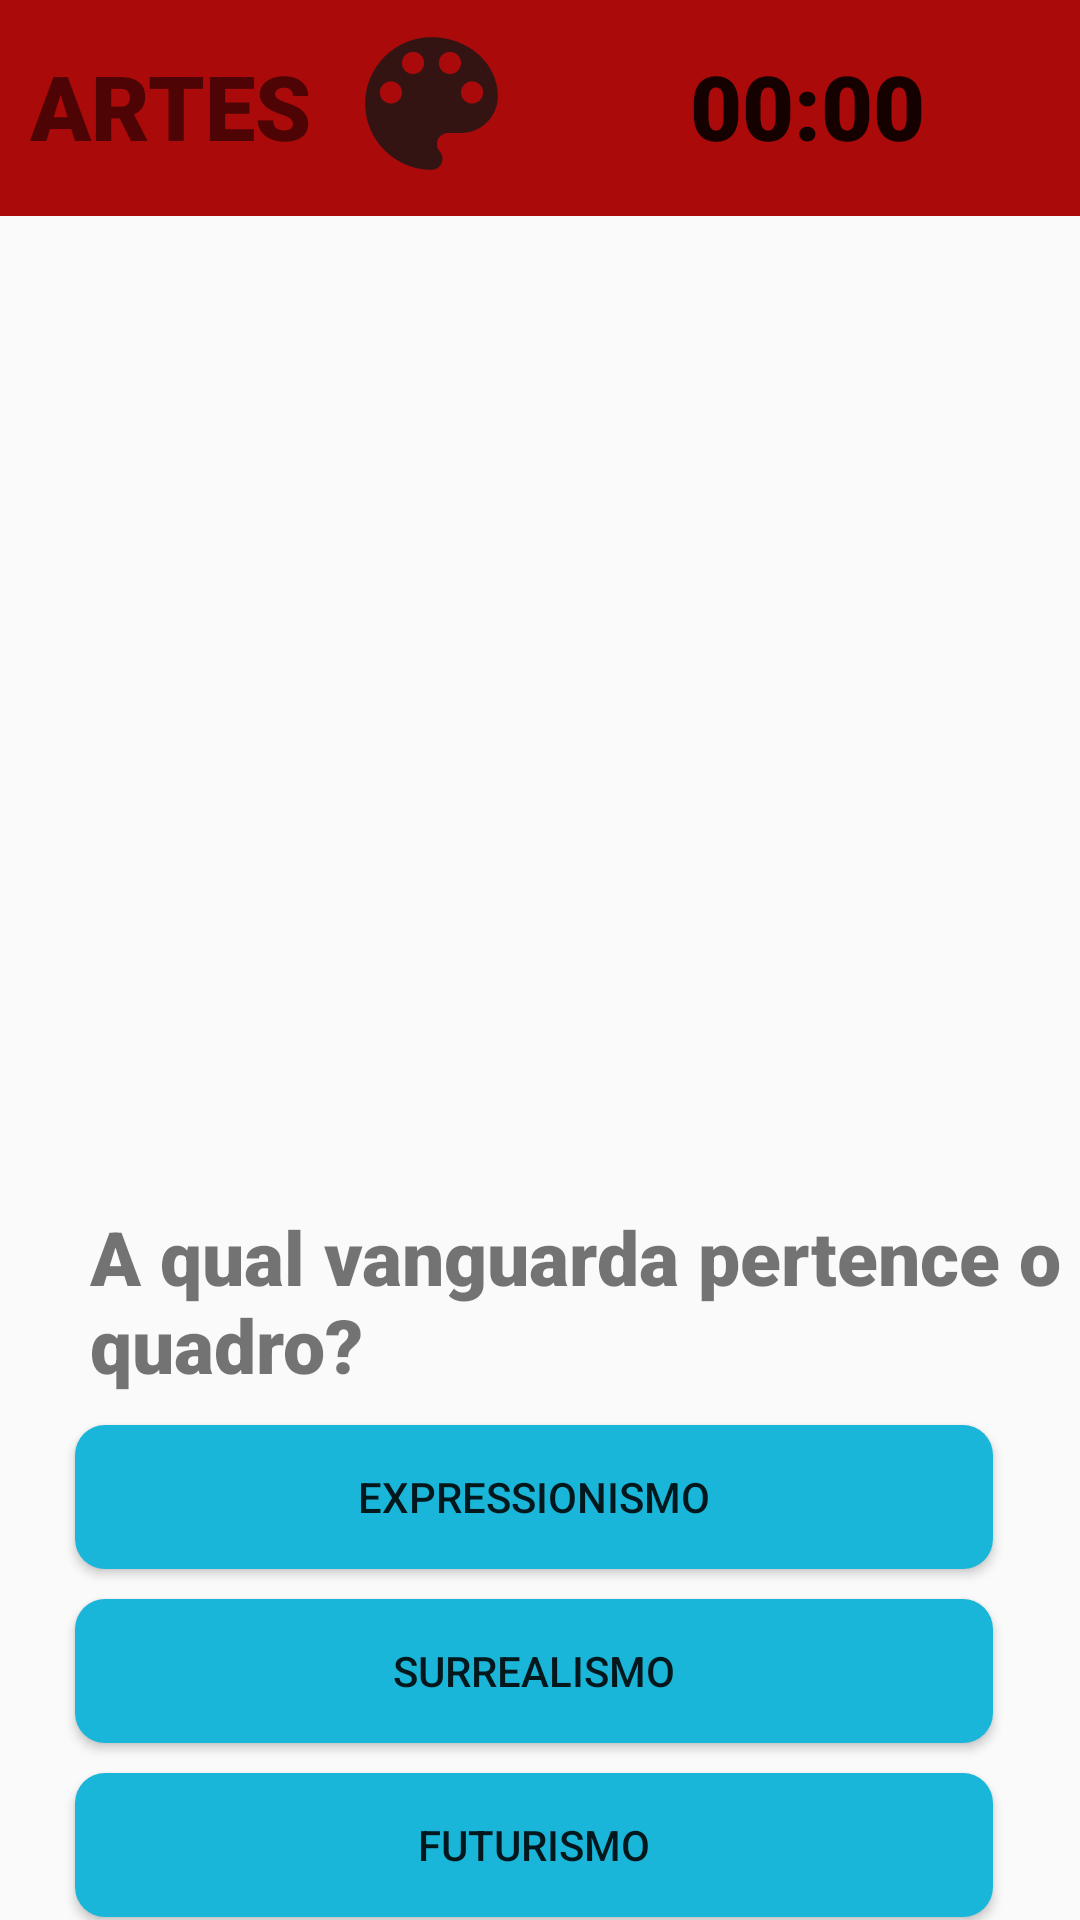

Point at icon controls on the screen. Image size 1080×1920, points as (x,y).
iconart: (431,103)
